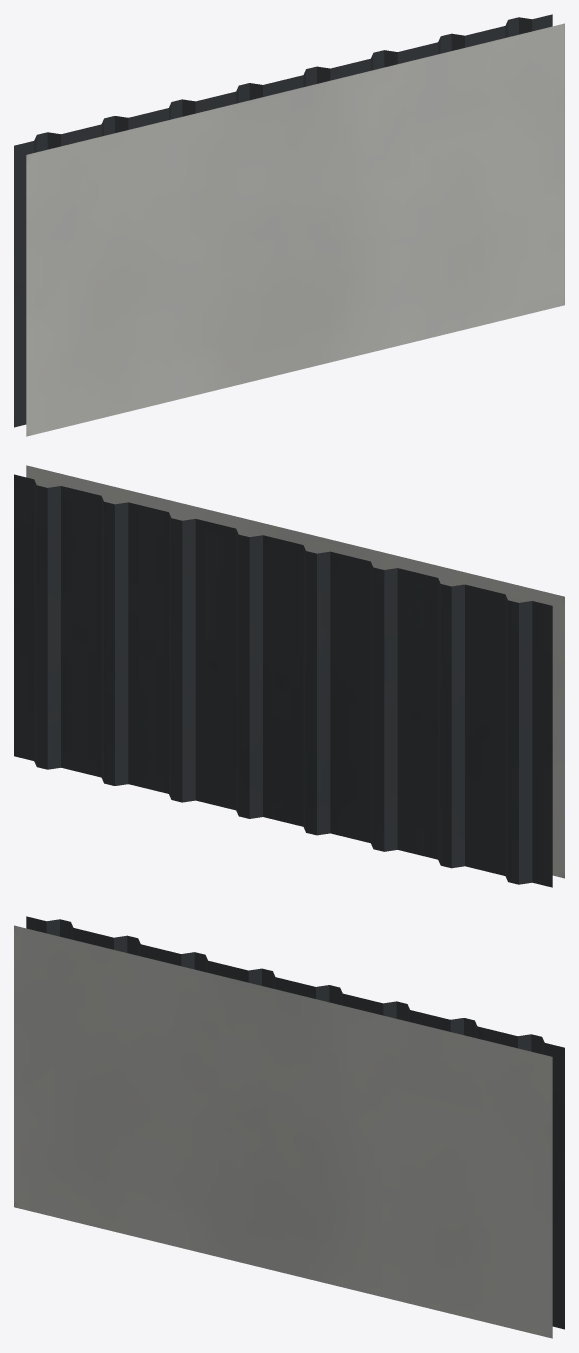
File: Wall_Panel_Dark.fbx
3 views of the same model, one above another, from view 1: azimuth 30°, elevation 25°; view 2: azimuth 150°, elevation 25°; view 3: azimuth 330°, elevation 25° (orthographic).
Visible parts, largest first — view 1: Wall_Panel_Dark_LOD0; view 2: Wall_Panel_Dark_LOD0; view 3: Wall_Panel_Dark_LOD0.
Part boxes in pixels (bbox=[...]): Wall_Panel_Dark_LOD0: bbox=[14, 14, 564, 436]; Wall_Panel_Dark_LOD0: bbox=[14, 465, 564, 887]; Wall_Panel_Dark_LOD0: bbox=[14, 916, 564, 1338].
Size of the model in its own units: 2 by 1 by 0.115.
Materials: 1 (1 with a texture image).
